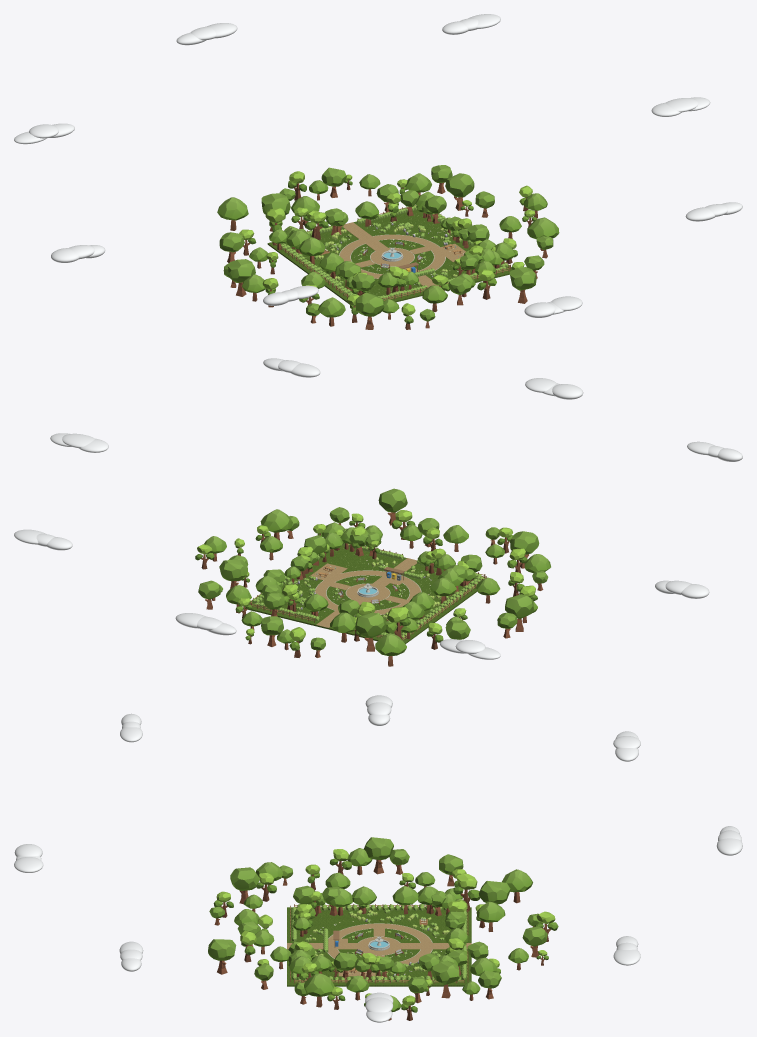
The model's file is EcoPark.fbx.
3 renders of one model, top to bottom at view 1: azimuth 30°, elevation 25°; view 2: azimuth 150°, elevation 25°; view 3: azimuth 270°, elevation 25°, orthographic.
Parts seen in each view (by area): view 1: Ground, Circular walking path, Palmov tree oak detail.002, Palmov tree oak detail.009, Palmov tree oak detail, Palmov tree oak detail.005, Palmov spherical tree detail.016, Palmov spherical tree detail.008; view 2: Ground, Circular walking path, Palmov tree oak detail.014, Palmov tree oak detail, Palmov tree oak detail.005, Palmov spherical tree detail.016, Palmov spherical tree detail.008, Palmov tree oak detail.009, Palmov tree oak detail.002, Palmov deciduous tree detail.016; view 3: Ground, Circular walking path, Palmov tree oak detail, Palmov tree oak detail.002, Palmov tree oak detail.005, Palmov tree oak detail.009, Palmov spherical tree detail.008, Palmov tree oak detail.014, Palmov deciduous tree detail.016, Palmov spherical tree detail.016.
Part boxes in pixels (x1,y1,x2,y2): Ground: [267, 210, 512, 304]; Circular walking path: [339, 234, 445, 278]; Palmov tree oak detail.002: [355, 292, 384, 329]; Palmov tree oak detail.009: [445, 173, 474, 210]; Palmov tree oak detail: [228, 259, 255, 296]; Palmov tree oak detail.005: [509, 267, 536, 303]; Palmov spherical tree detail.016: [217, 197, 248, 230]; Palmov spherical tree detail.008: [527, 217, 559, 250]; Ground: [243, 545, 487, 643]; Circular walking path: [315, 570, 420, 614]; Palmov tree oak detail.014: [355, 612, 385, 651]; Palmov tree oak detail: [505, 594, 534, 631]; Palmov tree oak detail.005: [378, 488, 407, 525]; Palmov spherical tree detail.016: [375, 633, 406, 666]; Palmov spherical tree detail.008: [260, 509, 292, 540]; Palmov tree oak detail.009: [219, 559, 247, 588]; Palmov tree oak detail.002: [510, 531, 539, 568]; Palmov deciduous tree detail.016: [385, 607, 410, 639]; Ground: [287, 907, 471, 986]; Circular walking path: [328, 923, 432, 965]; Palmov tree oak detail: [364, 837, 393, 874]; Palmov tree oak detail.002: [230, 867, 259, 904]; Palmov tree oak detail.005: [208, 939, 236, 974]; Palmov tree oak detail.009: [431, 960, 459, 998]; Palmov spherical tree detail.008: [304, 973, 334, 1007]; Palmov tree oak detail.014: [479, 881, 510, 904]; Palmov deciduous tree detail.016: [453, 874, 480, 911]; Palmov spherical tree detail.016: [502, 869, 532, 903].
Size of what is drawn, in the model's own units: 207 by 33.9 by 198.
Materials: 26 (3 with a texture image).
